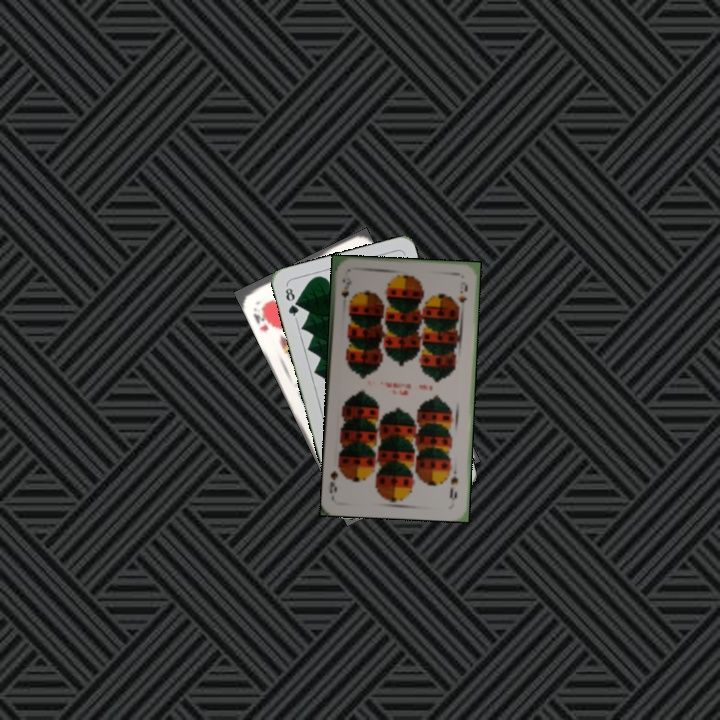G8: (281, 282, 302, 322)
HK: (249, 303, 275, 335)
S9: (337, 273, 354, 300), (446, 472, 461, 501)
